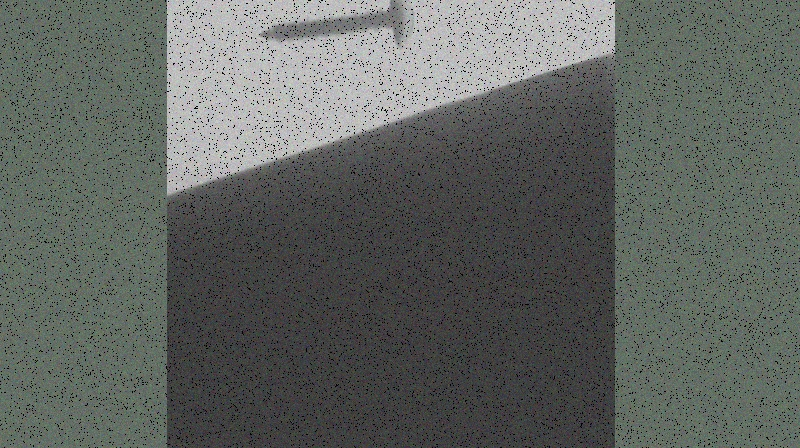S003: (257, 0, 417, 53)
